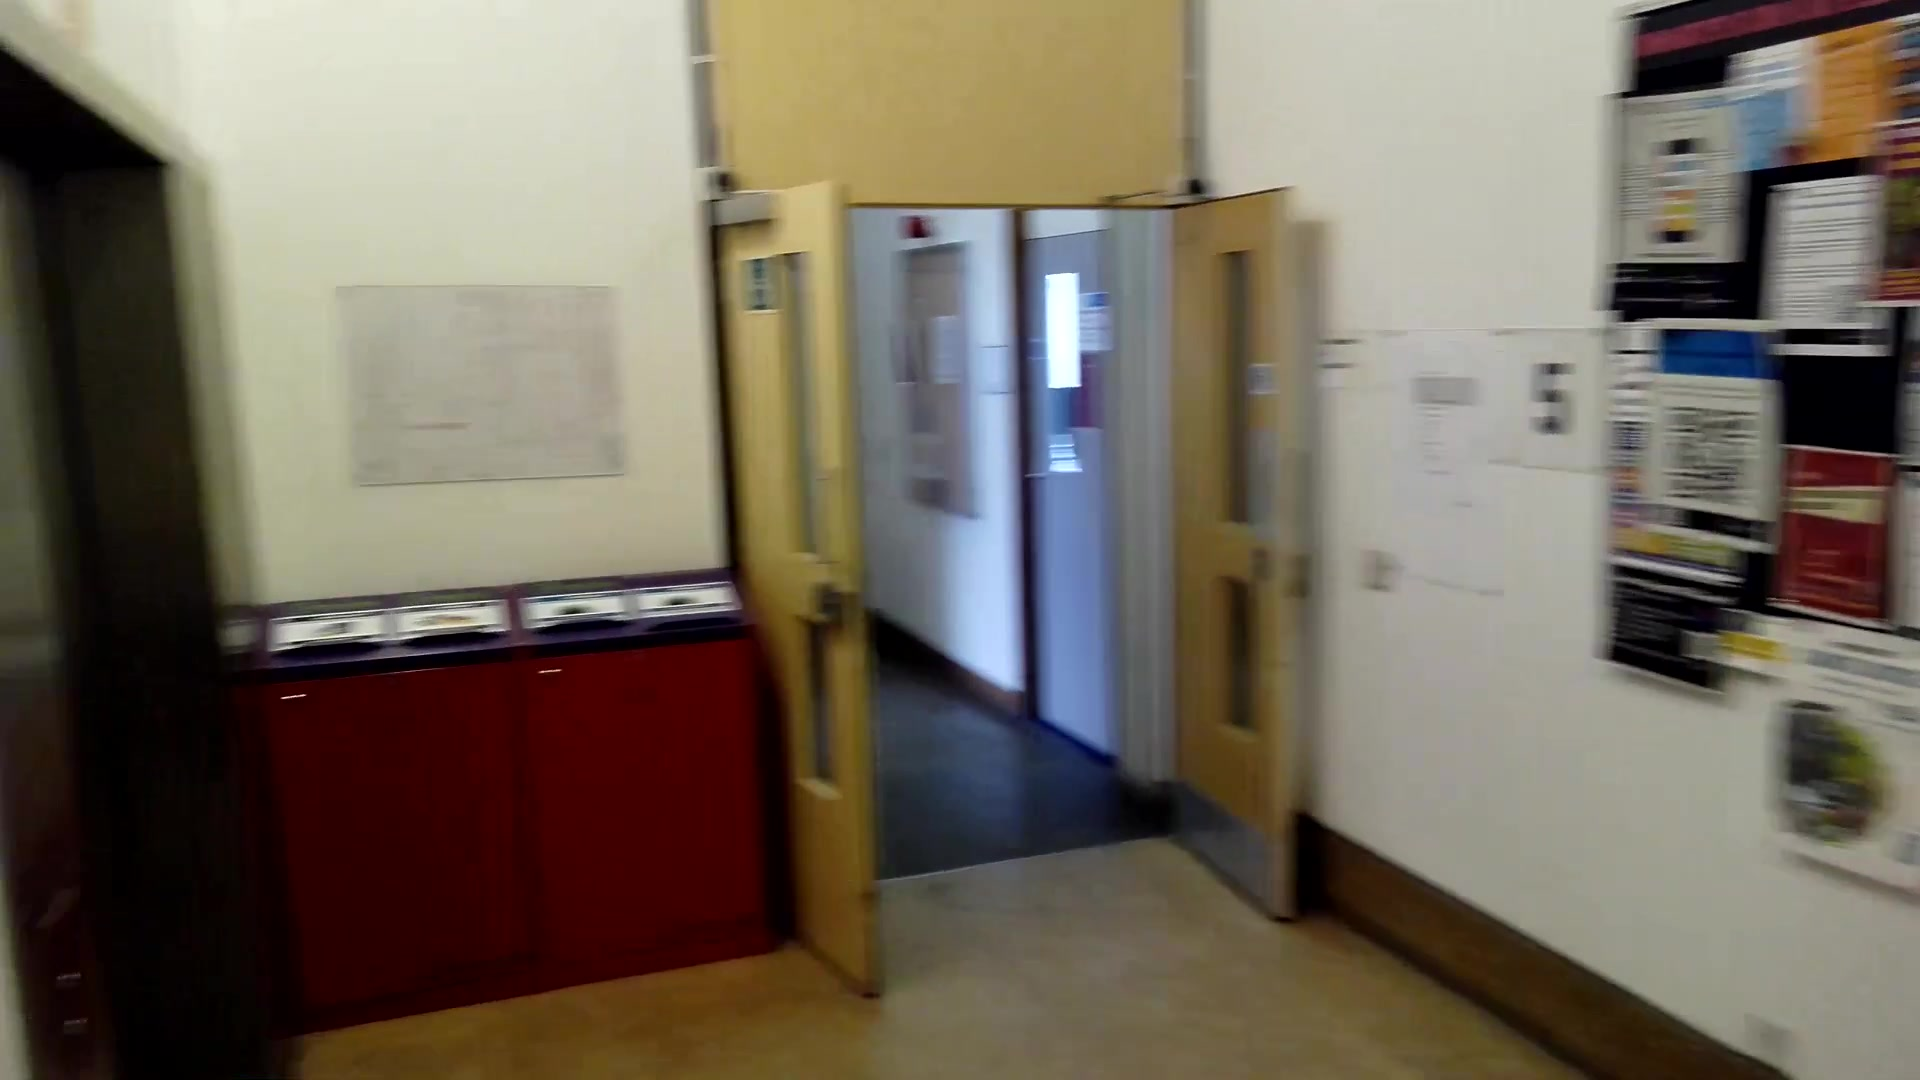Bin: (243, 595, 778, 992)
Door: (709, 178, 910, 1014), (1153, 191, 1331, 901)
